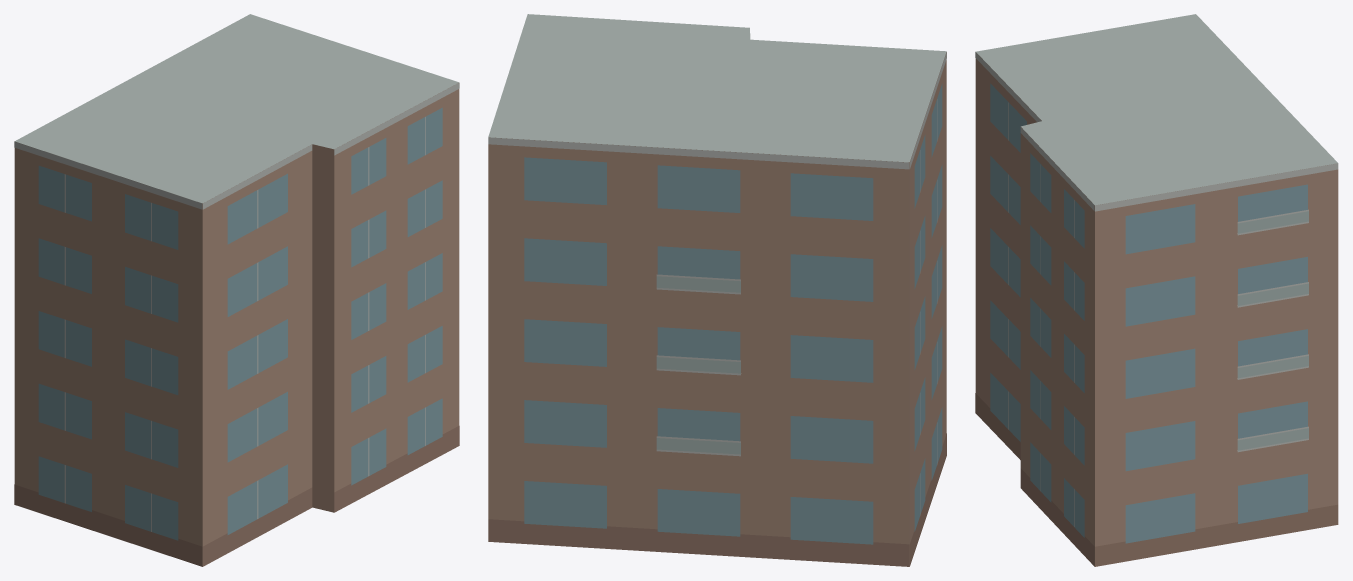
The model's file is survey-upis-32722626.glb.
3 views of the same model, side by side, from view 1: azimuth 30°, elevation 25°; view 2: azimuth 150°, elevation 25°; view 3: azimuth 270°, elevation 25° (orthographic). The views are drawn at different scales.
Visible parts, largest first — view 1: survey-upis-32722626.tmp; view 2: survey-upis-32722626.tmp; view 3: survey-upis-32722626.tmp.
Boxes of the visible parts, x1,y1,x2,y2 form: survey-upis-32722626.tmp: (14, 14, 459, 566); survey-upis-32722626.tmp: (488, 14, 946, 566); survey-upis-32722626.tmp: (975, 14, 1338, 566).
Bounding box in the file's own units: 16.01 × 14.1 × 12.83.
